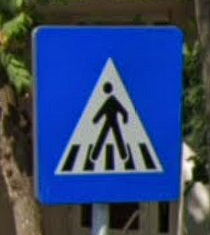trecere_pietoni: (25, 20, 187, 210)
